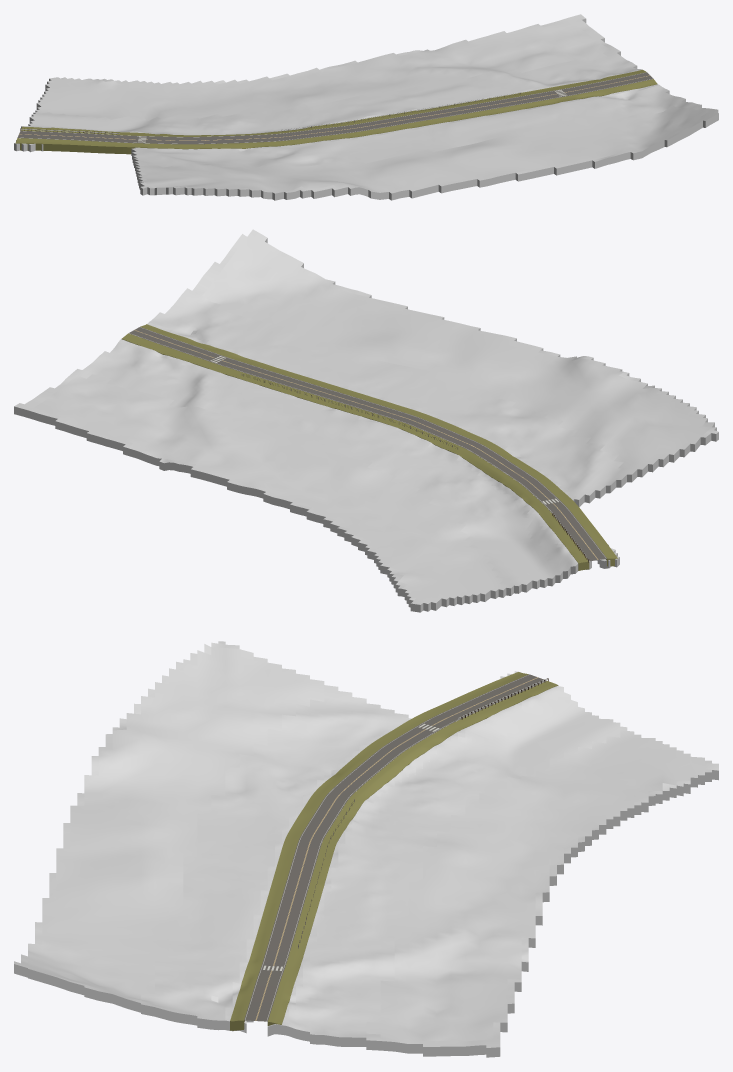
File: conz_43.glb
The picture shows the model from 3 angles, top to bottom: view 1: azimuth 30°, elevation 25°; view 2: azimuth 150°, elevation 25°; view 3: azimuth 270°, elevation 25°; orthographic projection. The views are drawn at different scales.
Visible parts, largest first — view 1: terrain43, road43, verge43R, verge43L, paint_white43, paint_yellow43; view 2: terrain43, road43, verge43L, verge43R, paint_white43; view 3: terrain43, road43, verge43L, verge43R, paint_white43, paint_yellow43.
Part boxes in pixels (left/top/right/bottom): terrain43: left=14, top=14, right=718, bottom=200; road43: left=17, top=72, right=653, bottom=144; verge43R: left=15, top=79, right=657, bottom=154; verge43L: left=21, top=69, right=646, bottom=136; paint_white43: left=20, top=72, right=652, bottom=143; paint_yellow43: left=19, top=75, right=649, bottom=140; terrain43: left=14, top=229, right=718, bottom=612; road43: left=129, top=327, right=606, bottom=561; verge43L: left=122, top=333, right=589, bottom=570; verge43R: left=140, top=324, right=617, bottom=566; paint_white43: left=129, top=327, right=606, bottom=560; terrain43: left=14, top=641, right=718, bottom=1057; road43: left=244, top=674, right=546, bottom=1021; verge43L: left=267, top=681, right=558, bottom=1025; verge43R: left=230, top=672, right=528, bottom=1030; paint_white43: left=245, top=674, right=546, bottom=1021; paint_yellow43: left=255, top=677, right=537, bottom=1020.
Size of the model in its own units: 250 by 26.42 by 200.
